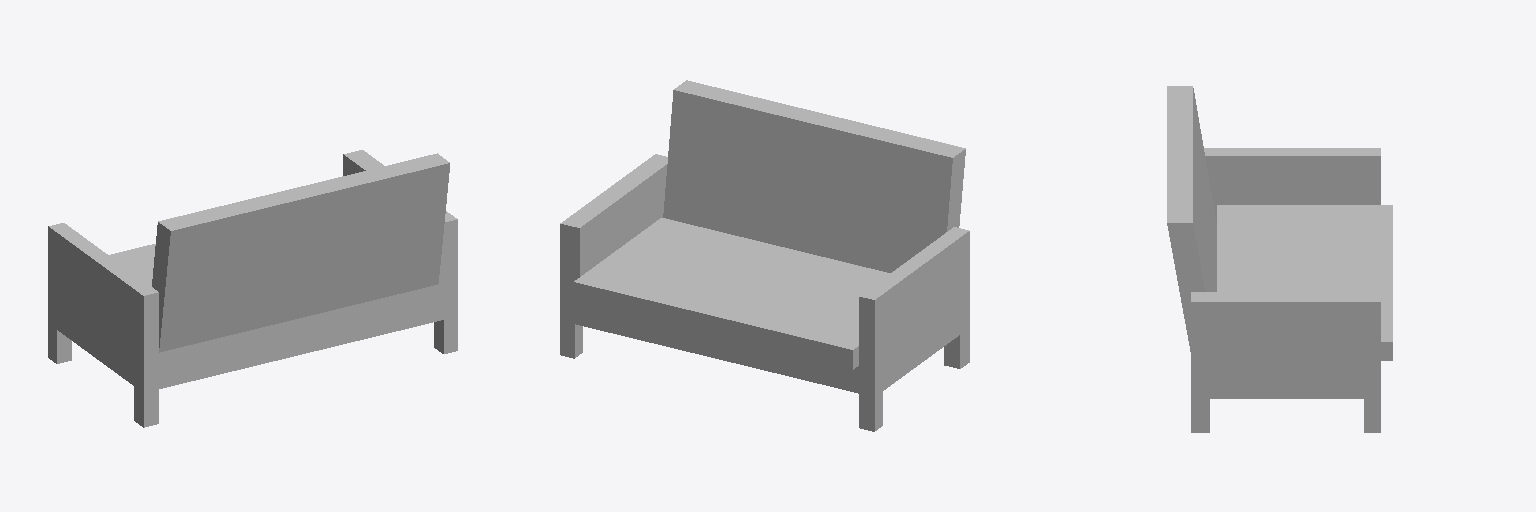
File: MediumSofa.obj
The picture shows the model from 3 angles: view 1: azimuth 30°, elevation 25°; view 2: azimuth 150°, elevation 25°; view 3: azimuth 270°, elevation 25°; orthographic projection.
Visible parts, largest first — view 1: MediumSofa; view 2: MediumSofa; view 3: MediumSofa.
Boxes of the visible parts, x1,y1,x2,y2 form: MediumSofa: [48, 150, 457, 427]; MediumSofa: [560, 80, 969, 431]; MediumSofa: [1167, 86, 1392, 432].
Bounding box in the file's own units: 217 × 133 × 135.